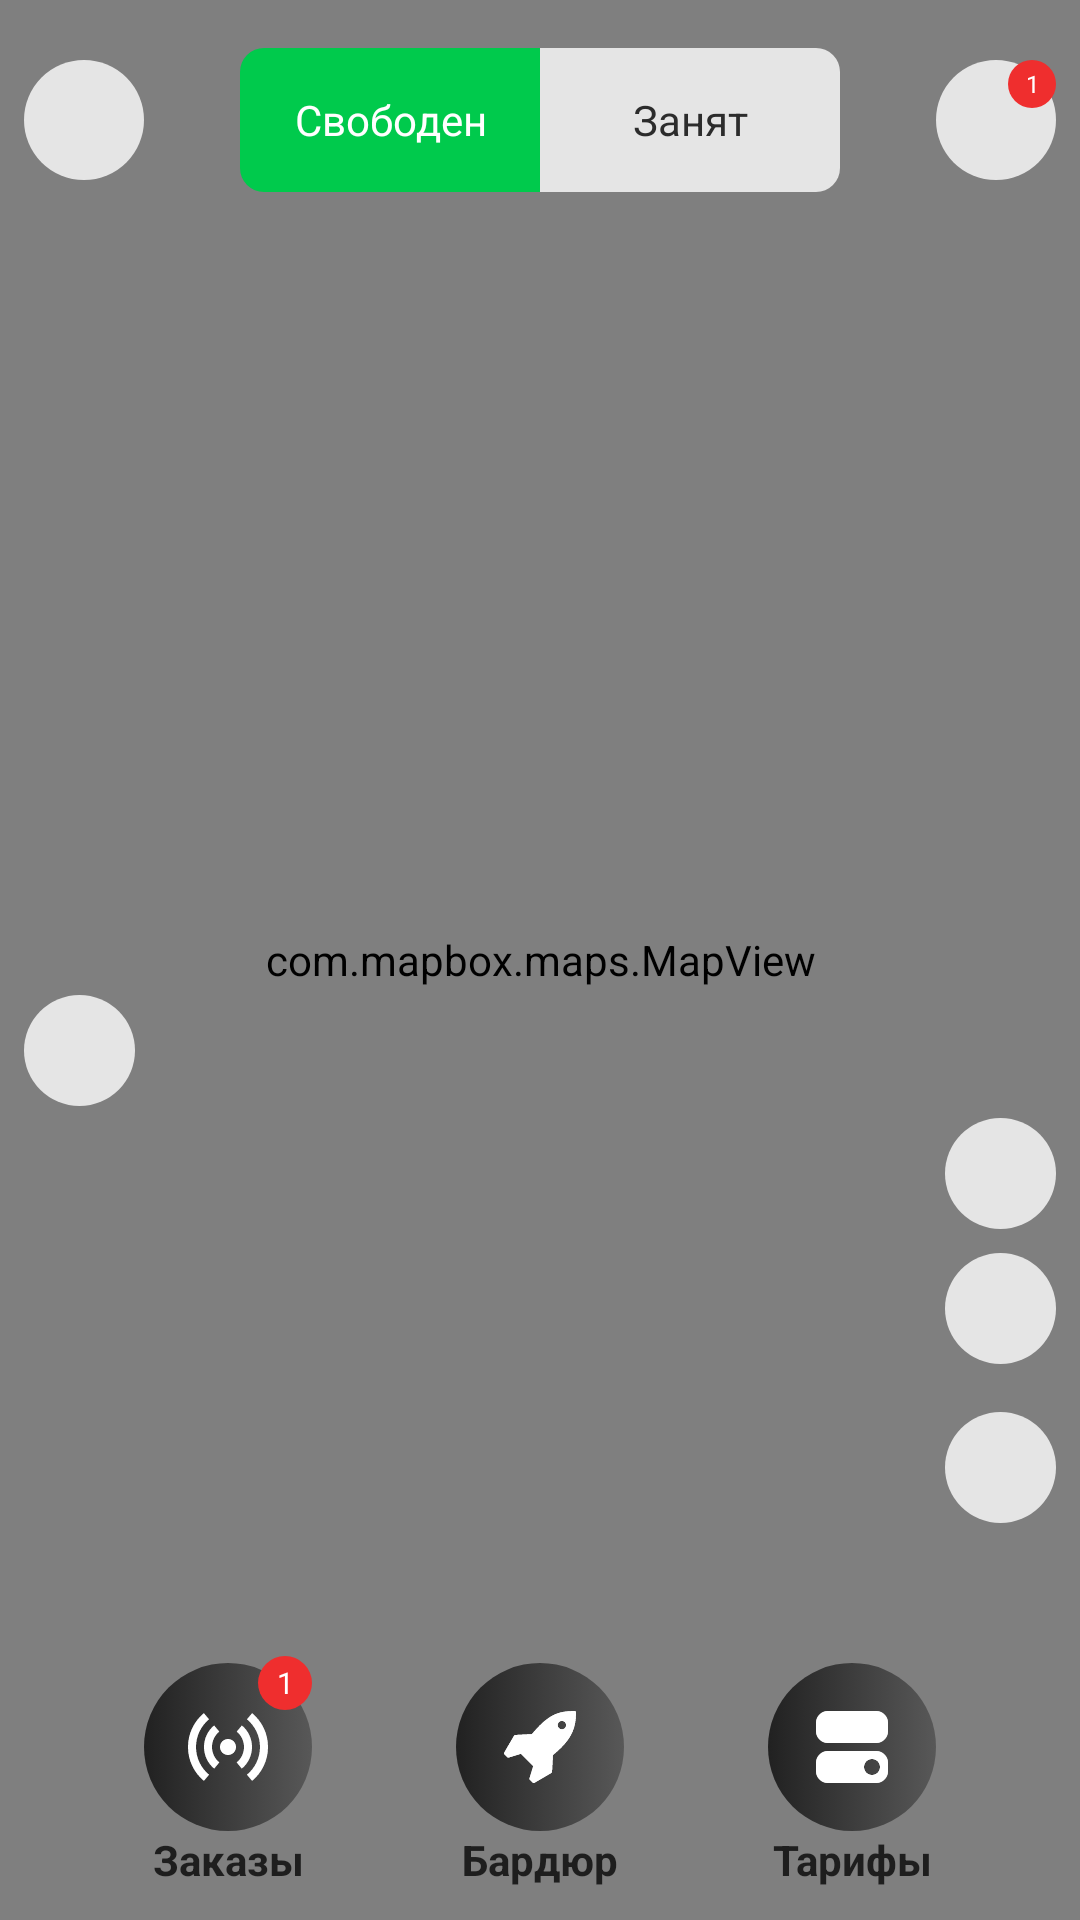

Icon bounding boxes for this 1080 x 1920 phone screenshot, format (x1, y1, x2, y2):
rocket: (456, 1663, 624, 1831)
